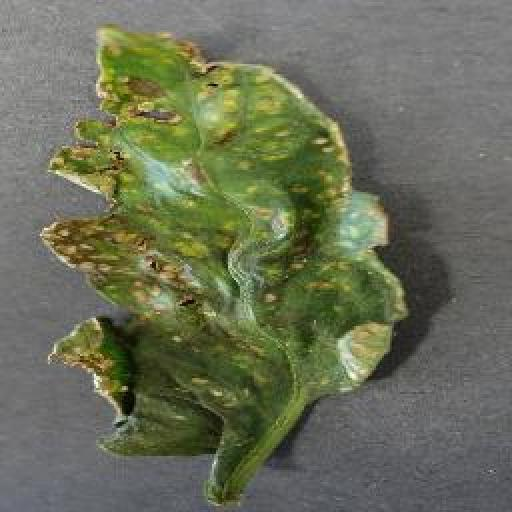Bacterial Spot: (32, 12, 420, 512)
